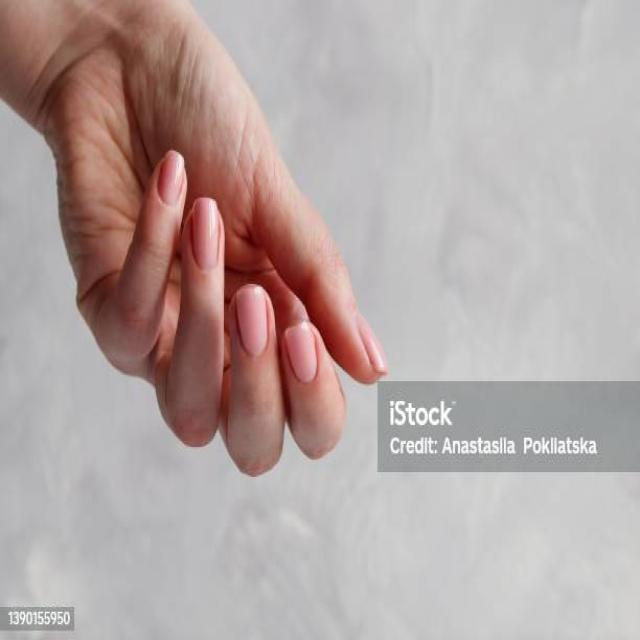Nail: (236, 285, 268, 356), (284, 322, 318, 384), (192, 197, 220, 270), (356, 315, 388, 373), (158, 150, 185, 204)
